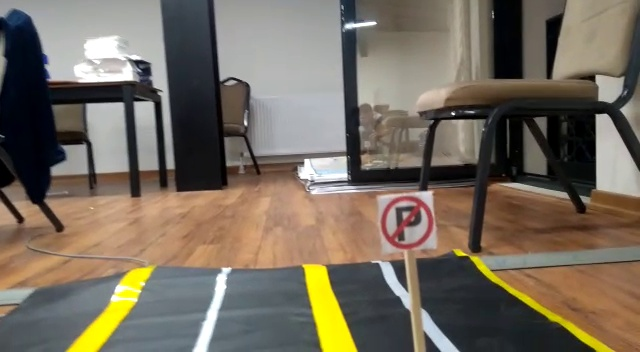park_yapilmaz: (376, 194, 432, 254)
